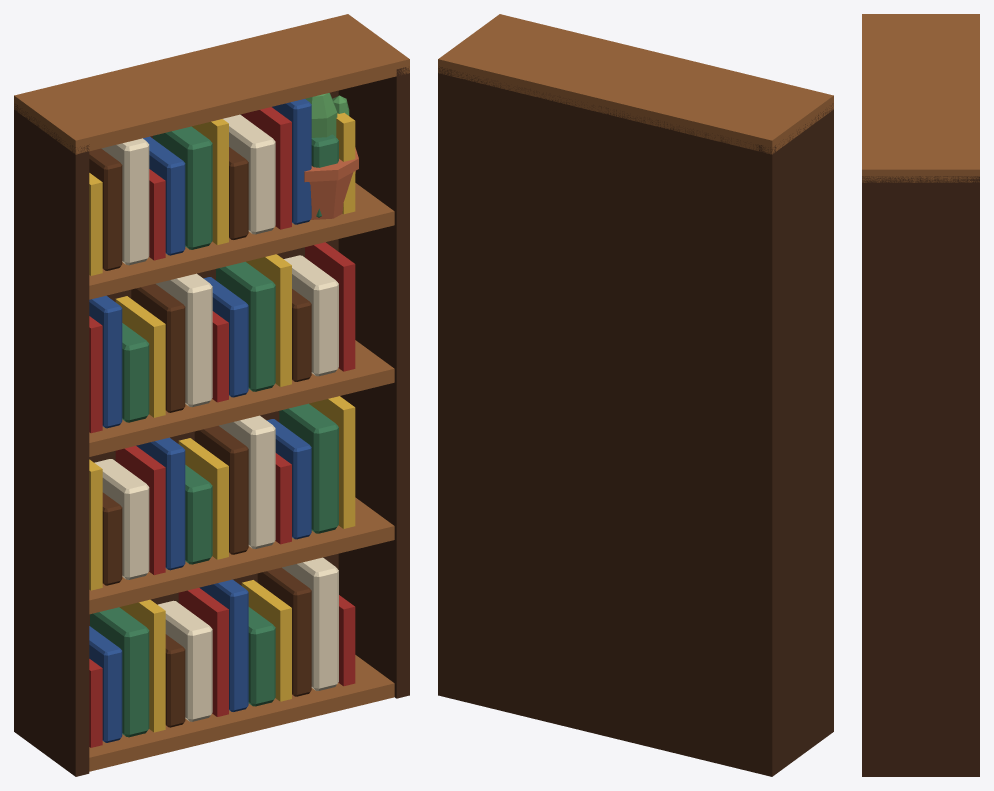
Rendered from bookshelf.obj.
3 views of the same model, side by side, from view 1: azimuth 30°, elevation 25°; view 2: azimuth 150°, elevation 25°; view 3: azimuth 270°, elevation 25° (orthographic). The views are drawn at different scales.
Visible parts, largest first — view 1: bookshelf; view 2: bookshelf; view 3: bookshelf.
Boxes of the visible parts, bbox=[...] form: bookshelf: bbox=[14, 14, 409, 776]; bookshelf: bbox=[438, 14, 833, 776]; bookshelf: bbox=[862, 14, 979, 776].
Bounding box in the file's own units: 1 × 1.82 × 0.32.
